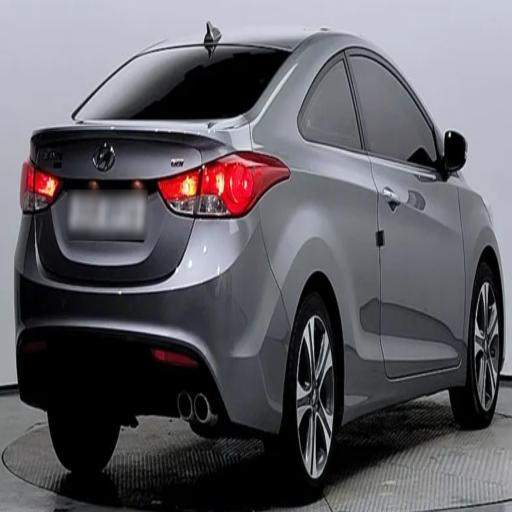normal: (6, 13, 509, 499)
